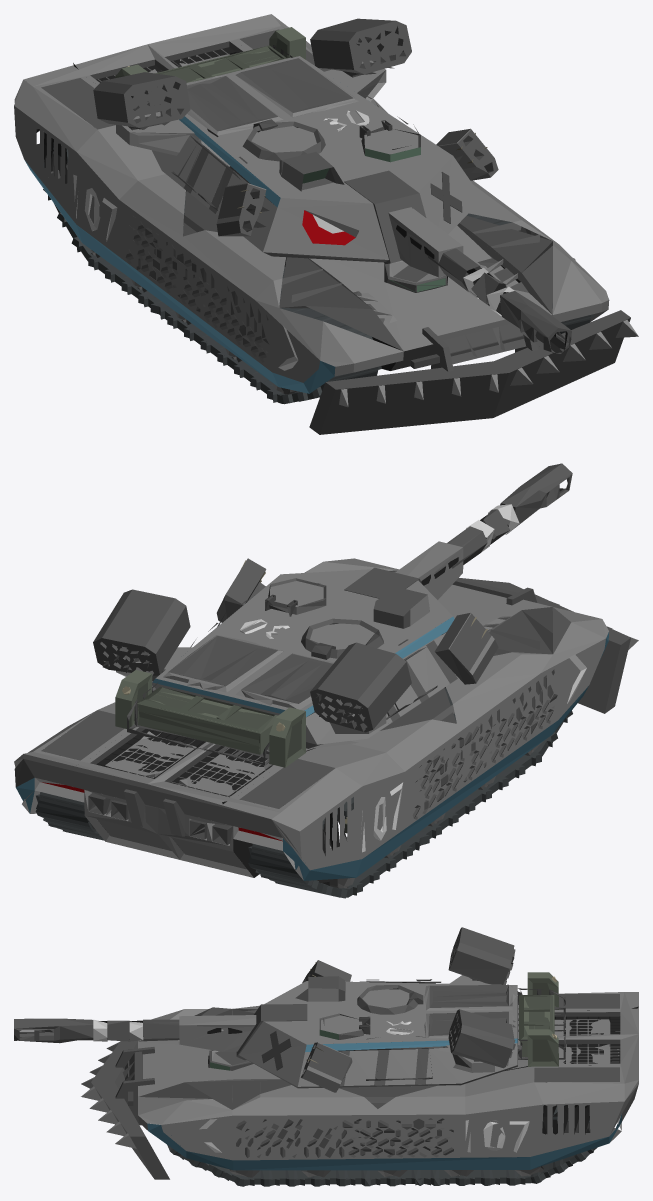
The model's file is artillery.glb.
The picture shows the model from 3 angles, top to bottom: view 1: azimuth 30°, elevation 25°; view 2: azimuth 150°, elevation 25°; view 3: azimuth 270°, elevation 25°; orthographic projection. The views are drawn at different scales.
Parts seen in each view (by area): view 1: Cube_Material_0, Cube_Material.001_0, Cube_Material.018_0, Cube.001_Material.009_0, Cube_Material.010_0, Cube.051_Material.008_0, Cube.038_Material.004_0, Cube_Material.007_0, Cube.054_Material.013_0, Cube.032_Material.002_0, Cube.038_Material.003_0, Cube.029_Material.016_0 (+1 smaller); view 2: Cube_Material_0, Cube_Material.001_0, Cube.001_Material.009_0, Cube.038_Material.003_0, Cube_Material.010_0, Cube_Material.007_0, Cube.038_Material.004_0, Cube_Material.018_0, Cube.032_Material.002_0, Cube.051_Material.008_0; view 3: Cube_Material_0, Cube_Material.001_0, Cube_Material.010_0, Cube.001_Material.009_0, Cube_Material.018_0, Cube_Material.007_0, Cube.038_Material.004_0, Cube.051_Material.008_0, Cube.038_Material.003_0, Cube.054_Material.013_0, Cube.032_Material.002_0.
Boxes of the visible parts, x1=… form: Cube_Material_0: x1=14, y1=14, x2=638, y2=407; Cube_Material.001_0: x1=14, y1=18, x2=630, y2=434; Cube_Material.018_0: x1=183, y1=191, x2=552, y2=350; Cube.001_Material.009_0: x1=43, y1=142, x2=594, y2=404; Cube_Material.010_0: x1=24, y1=116, x2=335, y2=393; Cube.051_Material.008_0: x1=73, y1=110, x2=575, y2=370; Cube.038_Material.004_0: x1=124, y1=38, x2=287, y2=82; Cube_Material.007_0: x1=36, y1=43, x2=567, y2=370; Cube.054_Material.013_0: x1=44, y1=154, x2=462, y2=394; Cube.032_Material.002_0: x1=171, y1=45, x2=524, y2=368; Cube.038_Material.003_0: x1=115, y1=27, x2=305, y2=81; Cube.029_Material.016_0: x1=302, y1=147, x2=445, y2=292; Cube_Material_0: x1=14, y1=541, x2=638, y2=880; Cube_Material.001_0: x1=14, y1=463, x2=630, y2=869; Cube.001_Material.009_0: x1=35, y1=688, x2=572, y2=898; Cube.038_Material.003_0: x1=115, y1=670, x2=305, y2=767; Cube_Material.010_0: x1=16, y1=616, x2=609, y2=880; Cube_Material.007_0: x1=89, y1=488, x2=563, y2=877; Cube.038_Material.004_0: x1=134, y1=682, x2=347, y2=833; Cube_Material.018_0: x1=380, y1=570, x2=552, y2=730; Cube.032_Material.002_0: x1=88, y1=581, x2=437, y2=845; Cube.051_Material.008_0: x1=240, y1=504, x2=586, y2=852; Cube_Material_0: x1=81, y1=960, x2=638, y2=1160; Cube_Material.001_0: x1=14, y1=927, x2=638, y2=1179; Cube_Material.010_0: x1=147, y1=1038, x2=621, y2=1170; Cube.001_Material.009_0: x1=167, y1=1105, x2=597, y2=1186; Cube_Material.018_0: x1=138, y1=1007, x2=436, y2=1109; Cube_Material.007_0: x1=14, y1=1006, x2=638, y2=1134; Cube.038_Material.004_0: x1=519, y1=983, x2=554, y2=1061; Cube.051_Material.008_0: x1=93, y1=1019, x2=529, y2=1152; Cube.038_Material.003_0: x1=520, y1=972, x2=558, y2=1066; Cube.054_Material.013_0: x1=229, y1=1031, x2=590, y2=1177; Cube.032_Material.002_0: x1=128, y1=979, x2=565, y2=1105.
Size of the model in its own units: 0.4131 by 0.285 by 1.
